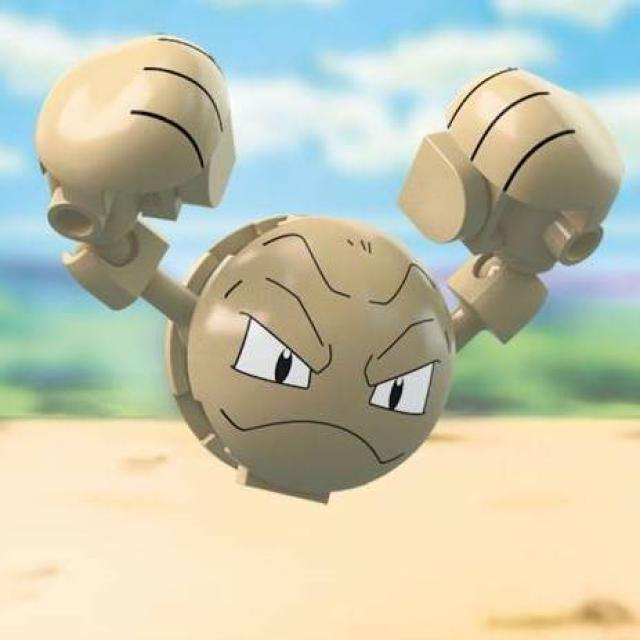Geodude: (34, 27, 610, 506)
